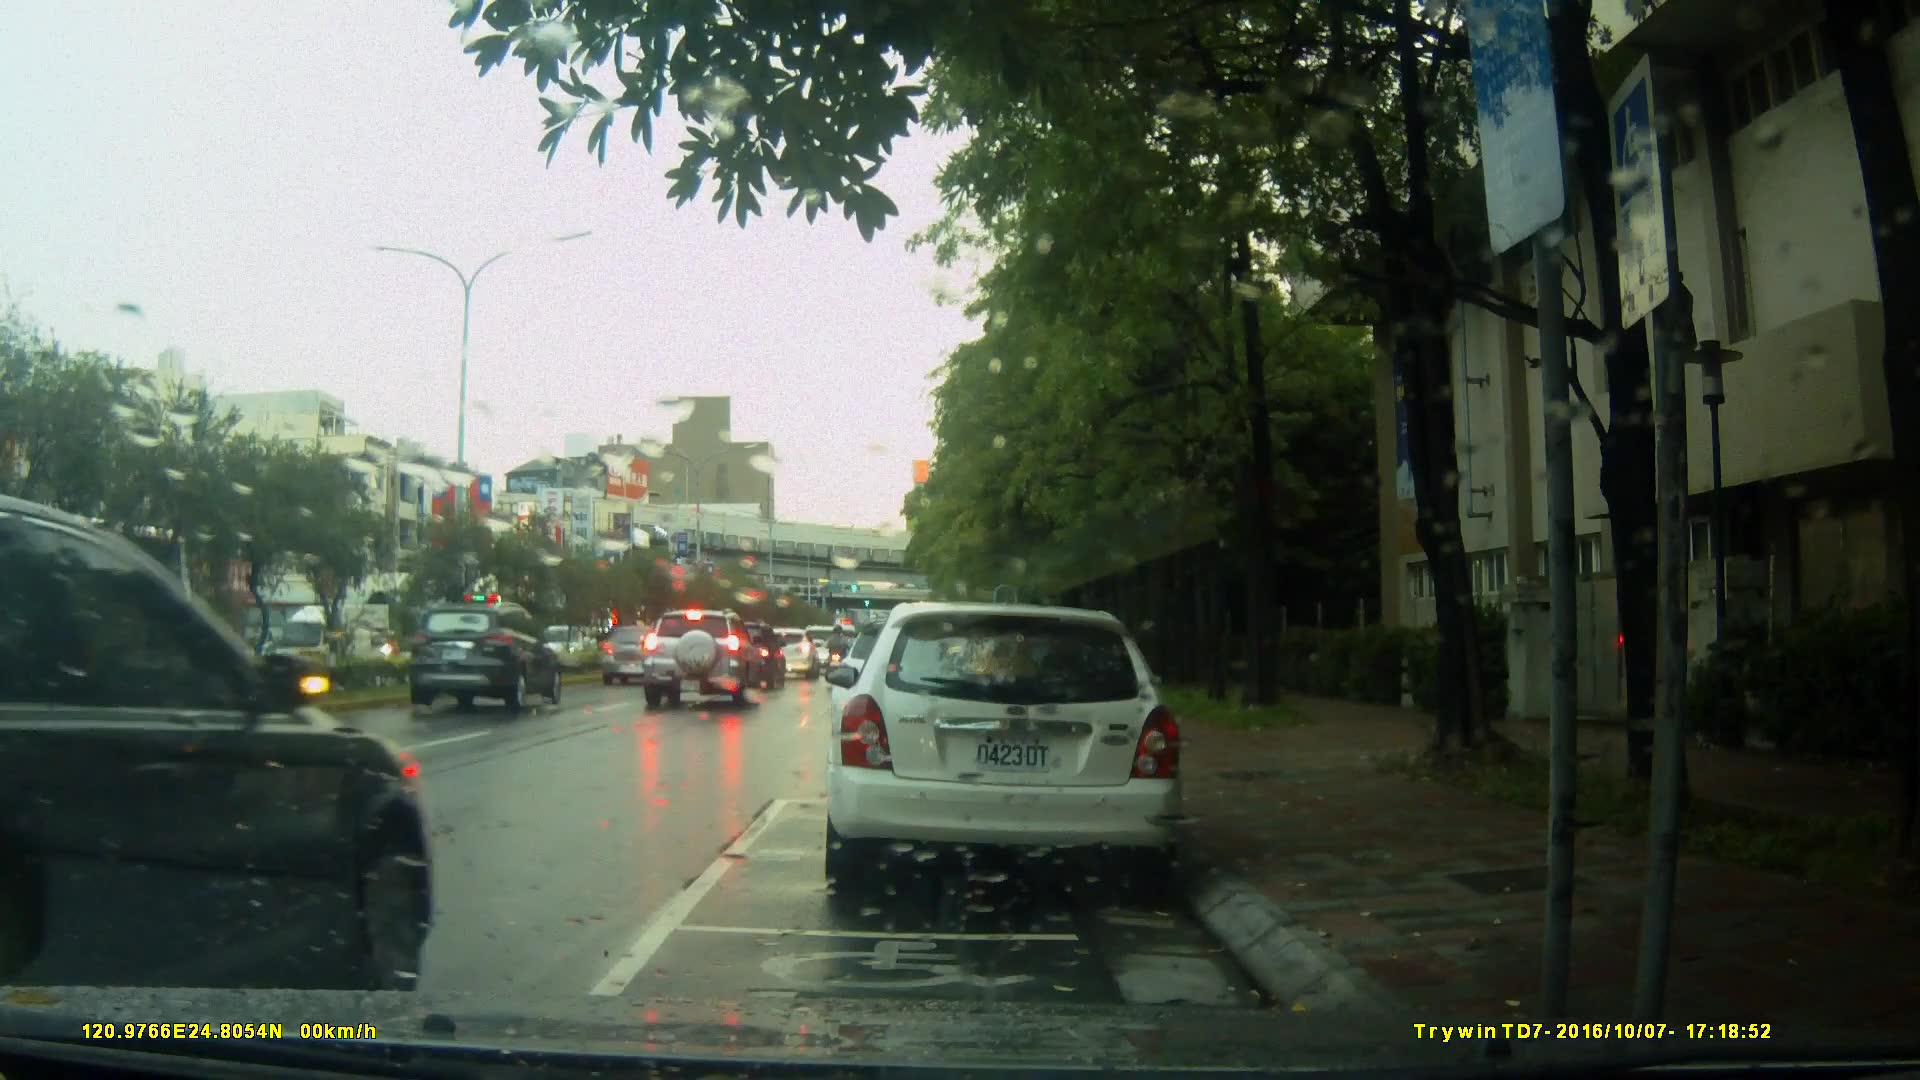rider: (821, 624, 856, 696)
vehicle: (1, 500, 436, 988), (820, 602, 1188, 898), (405, 600, 565, 712), (639, 608, 759, 713)
